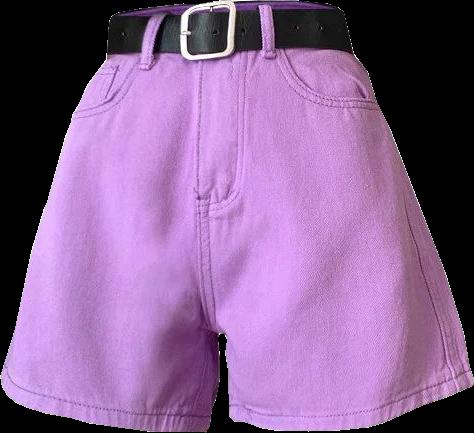Hemline: (229, 379, 473, 432), (0, 374, 208, 432)
Pantleg: (196, 0, 473, 430), (1, 3, 230, 431)
Waistline: (109, 2, 338, 18), (105, 46, 354, 59)
